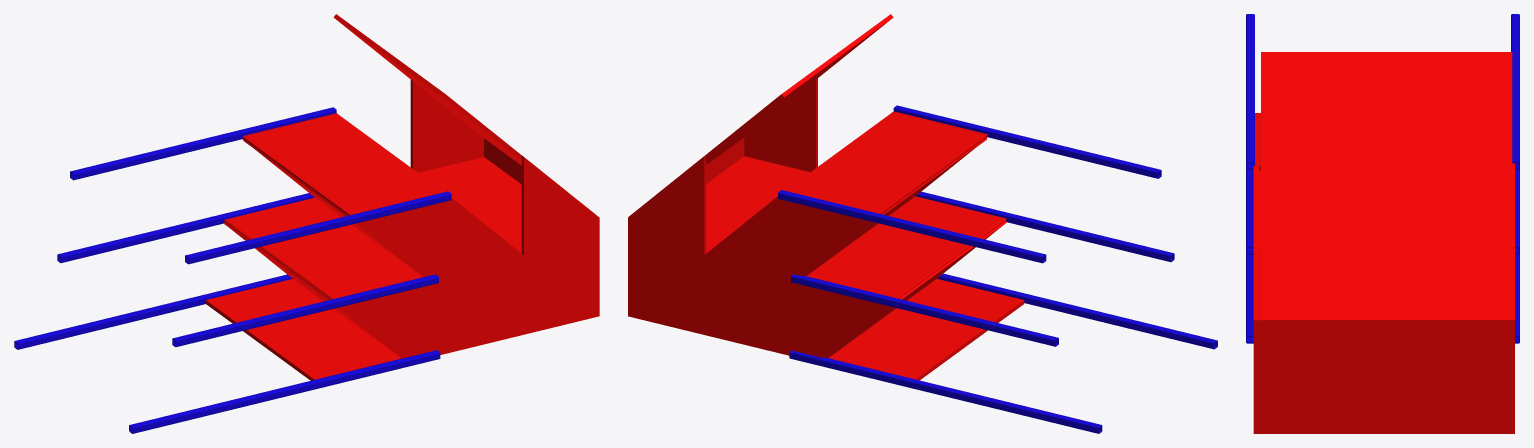
3 views of the same model, side by side, from view 1: azimuth 30°, elevation 25°; view 2: azimuth 150°, elevation 25°; view 3: azimuth 270°, elevation 25° (orthographic). The views are drawn at different scales.
Parts seen in each view (by area): view 1: Obj_000001; view 2: Obj_000001; view 3: Obj_000001.
Part boxes in pixels (x1,y1,x2,y2): Obj_000001: (14, 14, 599, 433); Obj_000001: (628, 14, 1217, 433); Obj_000001: (1246, 14, 1519, 433).
Size of the model in its own units: 2.49 by 1.32 by 1.09.
